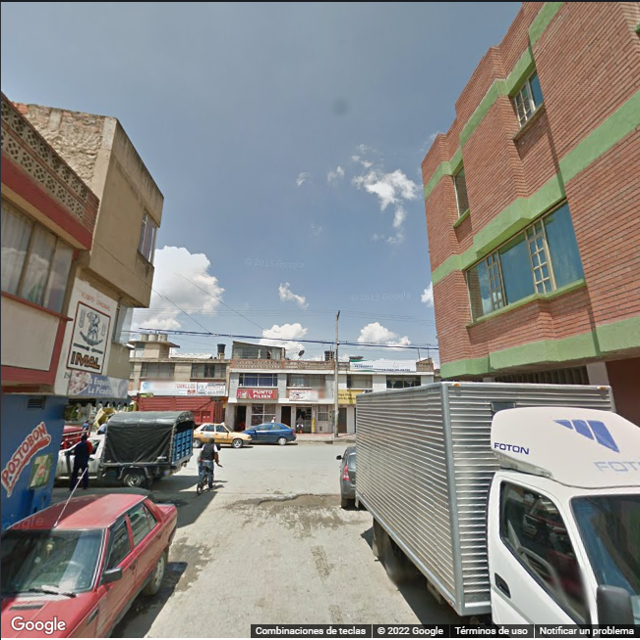D40: (257, 489, 320, 515)
